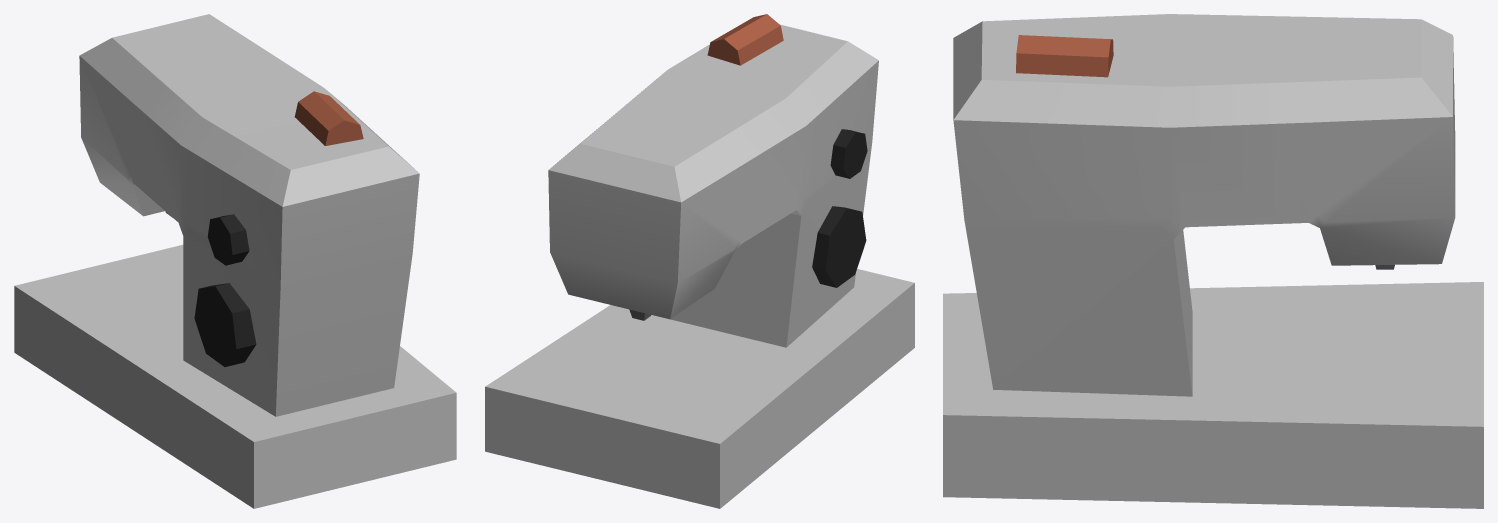
Rendered from SM_Naaimachine.fbx.
The picture shows the model from 3 angles, left to right: view 1: azimuth 30°, elevation 25°; view 2: azimuth 150°, elevation 25°; view 3: azimuth 270°, elevation 25°; orthographic projection. The views are drawn at different scales.
Parts seen in each view (by area): view 1: naaimachine; view 2: naaimachine; view 3: naaimachine.
Boxes of the visible parts, bbox=[...] form: naaimachine: bbox=[14, 14, 456, 508]; naaimachine: bbox=[485, 14, 914, 508]; naaimachine: bbox=[943, 14, 1483, 508].
Bounding box in the file's own units: 2.36 × 3.14 × 3.72.
